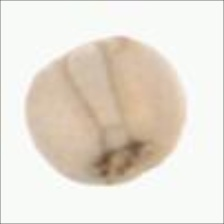L5: (60, 40, 129, 144), (89, 138, 161, 187)
L6: (21, 34, 188, 188)
